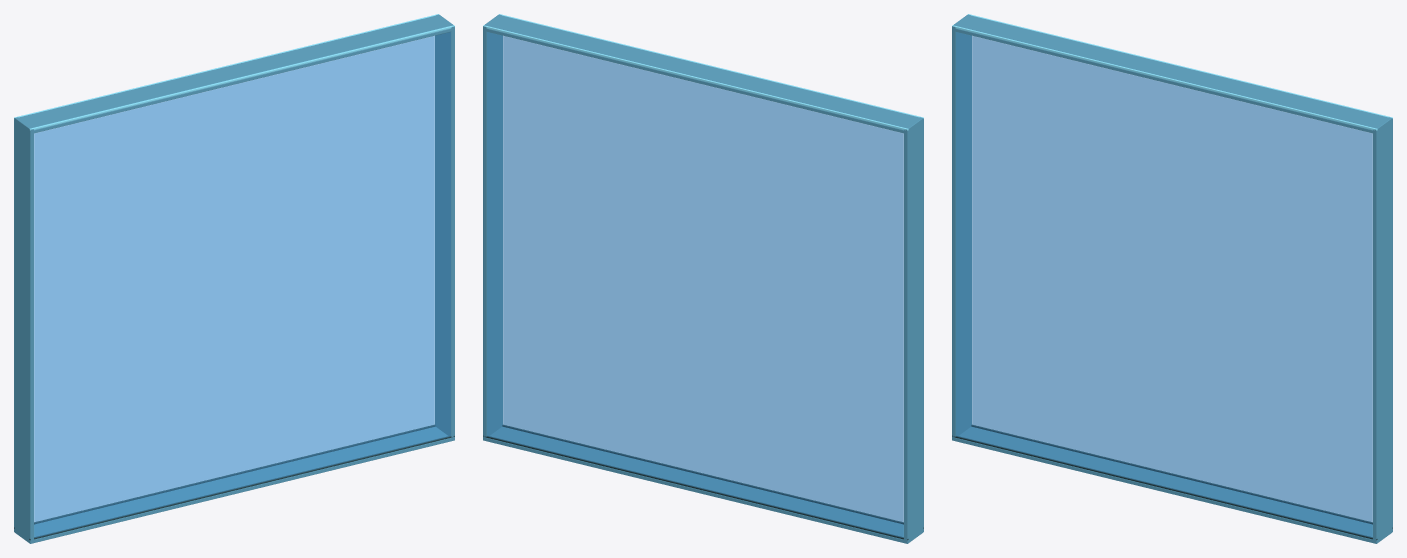
File: SM_VR_Wall_FrontGridWest.fbx
The picture shows the model from 3 angles, left to right: view 1: azimuth 30°, elevation 25°; view 2: azimuth 150°, elevation 25°; view 3: azimuth 330°, elevation 25°; orthographic projection.
Parts seen in each view (by area): view 1: SM_VR_Wall_FrontGridWest; view 2: SM_VR_Wall_FrontGridWest; view 3: SM_VR_Wall_FrontGridWest.
Part boxes in pixels (x1=…): SM_VR_Wall_FrontGridWest: x1=14, y1=14, x2=454, y2=543; SM_VR_Wall_FrontGridWest: x1=483, y1=14, x2=923, y2=543; SM_VR_Wall_FrontGridWest: x1=952, y1=14, x2=1392, y2=543.
Size of the model in its own units: 300 by 20 by 280.
